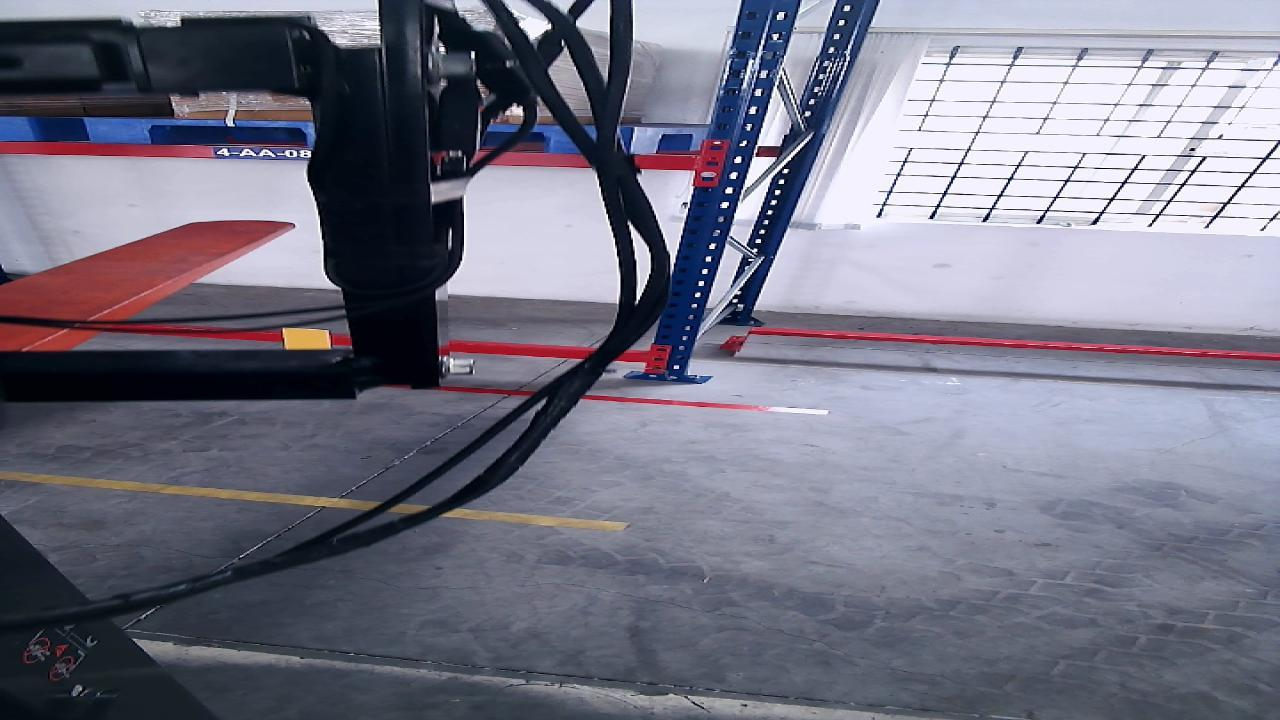h_rack: (108, 326, 645, 362), (0, 142, 694, 169)
red_line: (441, 382, 825, 418)
yellow_line: (2, 471, 625, 531)
